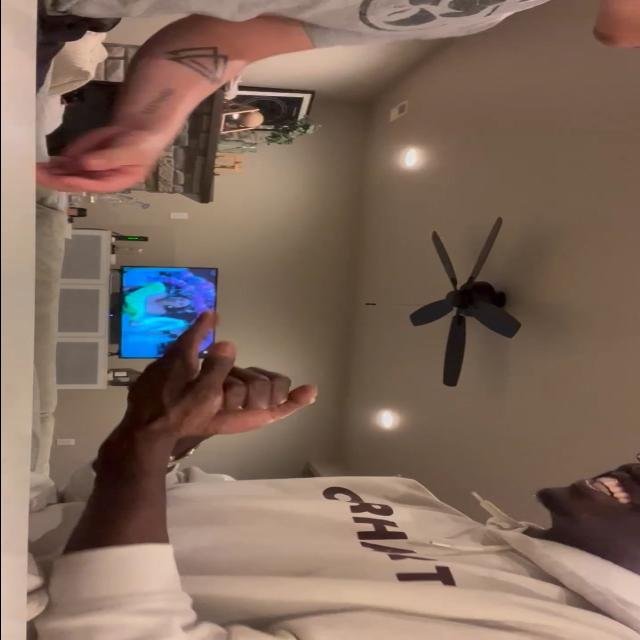Rock: (185, 368, 317, 436)
